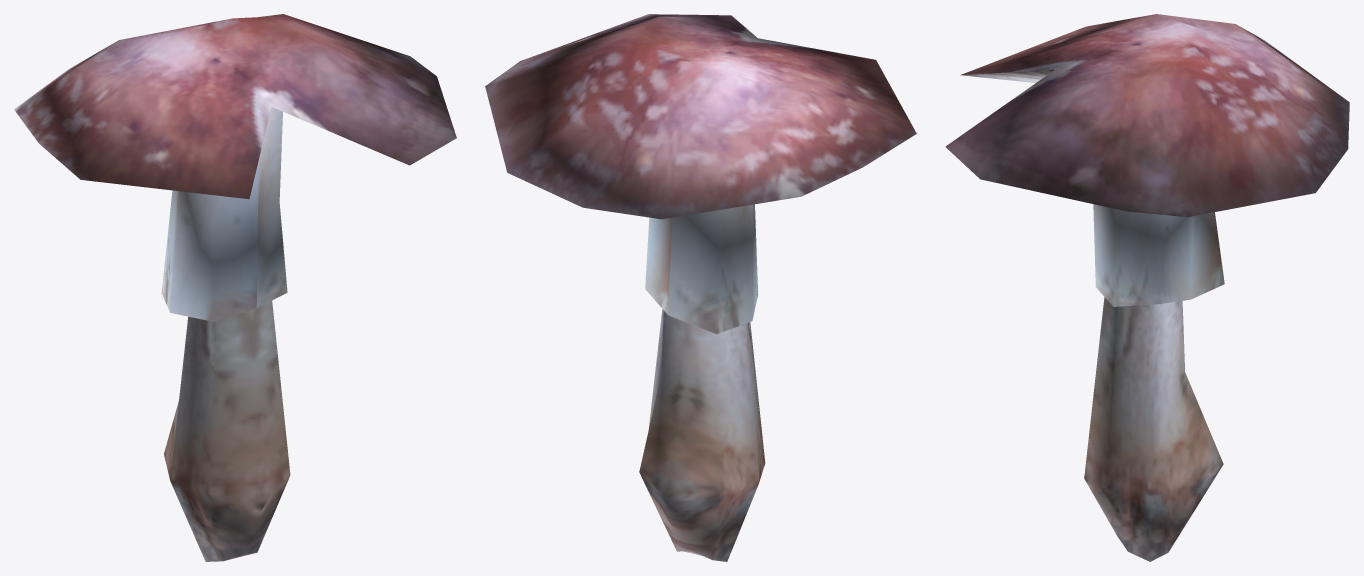
File: SM_TOADSTOOL_06.FBX
3 renders of one model, left to right at view 1: azimuth 30°, elevation 25°; view 2: azimuth 150°, elevation 25°; view 3: azimuth 270°, elevation 25°, orthographic.
Visible parts, largest first — view 1: SM_TOADSTOOL_06; view 2: SM_TOADSTOOL_06; view 3: SM_TOADSTOOL_06.
Part boxes in pixels (box(x1,y1,x2,y2)): SM_TOADSTOOL_06: box(14, 14, 456, 561); SM_TOADSTOOL_06: box(485, 14, 916, 561); SM_TOADSTOOL_06: box(945, 14, 1349, 561).
Bounding box in the file's own units: 12.9 × 12.03 × 16.64.
